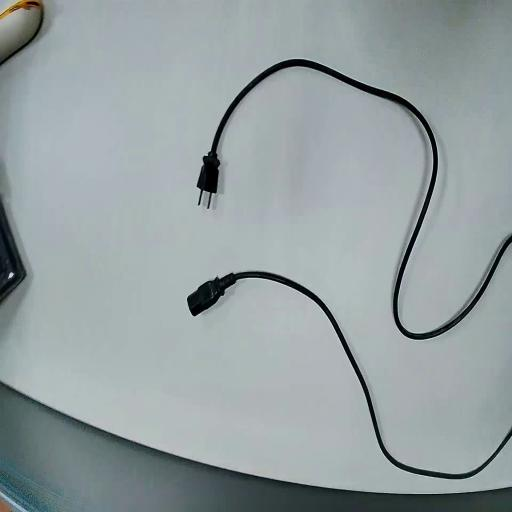wire: (198, 60, 511, 338), (188, 272, 511, 477)
